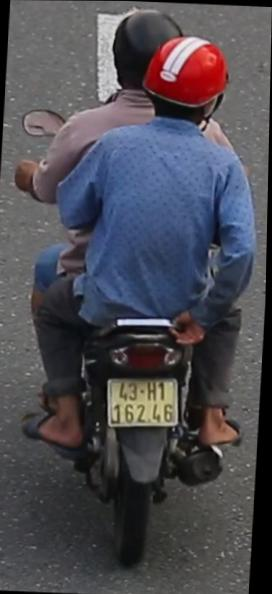LP: (104, 369, 185, 432)
helmet: (138, 30, 236, 139), (109, 5, 188, 92)
